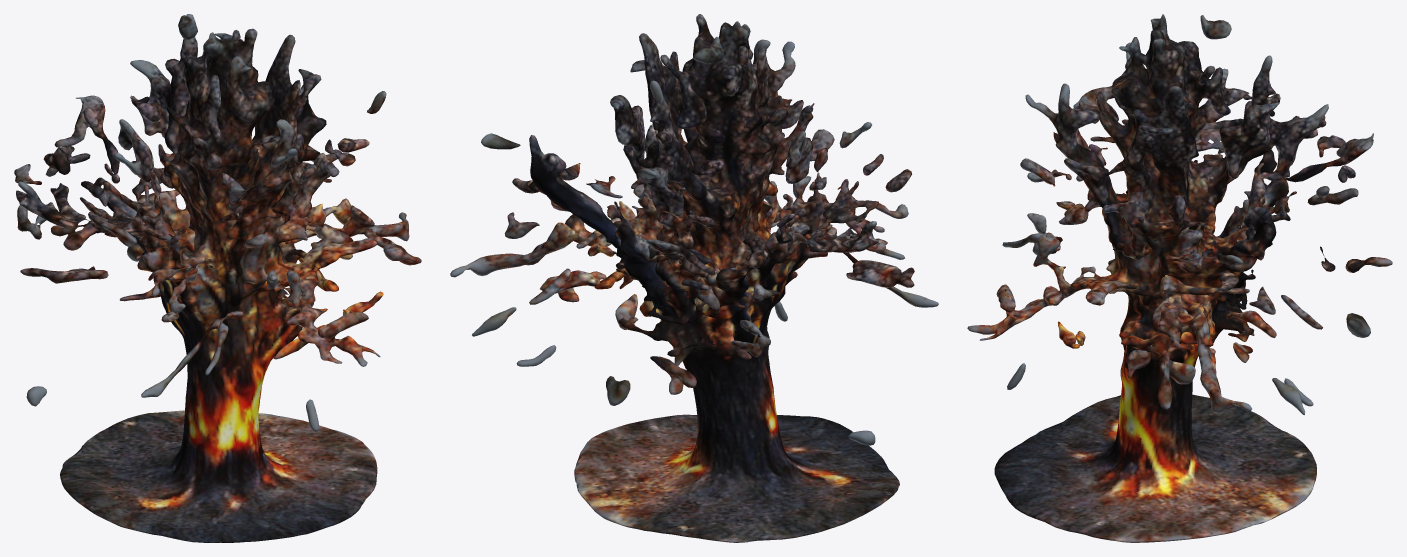
File: arbolquemado.glb
3 renders of one model, left to right at view 1: azimuth 30°, elevation 25°; view 2: azimuth 150°, elevation 25°; view 3: azimuth 270°, elevation 25°, orthographic. The views are drawn at different scales.
Visible parts, largest first — view 1: model; view 2: model; view 3: model.
Boxes of the visible parts, bbox=[...] form: model: bbox=[14, 14, 421, 542]; model: bbox=[450, 14, 938, 542]; model: bbox=[967, 14, 1392, 542].
Size of the model in its own units: 1.57 by 1.63 by 1.36.
Materials: 1 (1 with a texture image).
